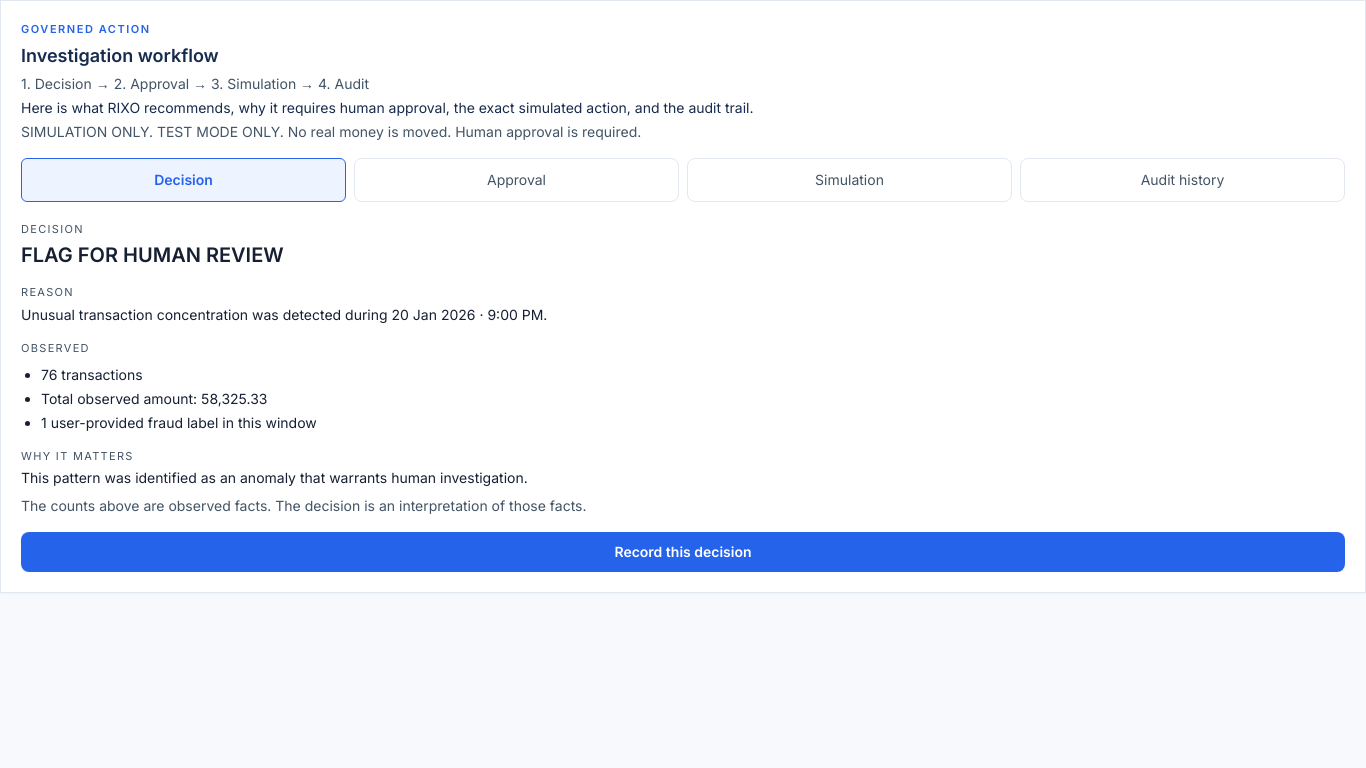
Test case: four tabs show materially different content from live state
Expected: the text "Decision" is shown, [21,222,84,236]
Expected: the text "Flag for human review" is shown, [21,243,284,267]
Click the tab "Approval".
click(516, 180)  # box [354,158,679,202]
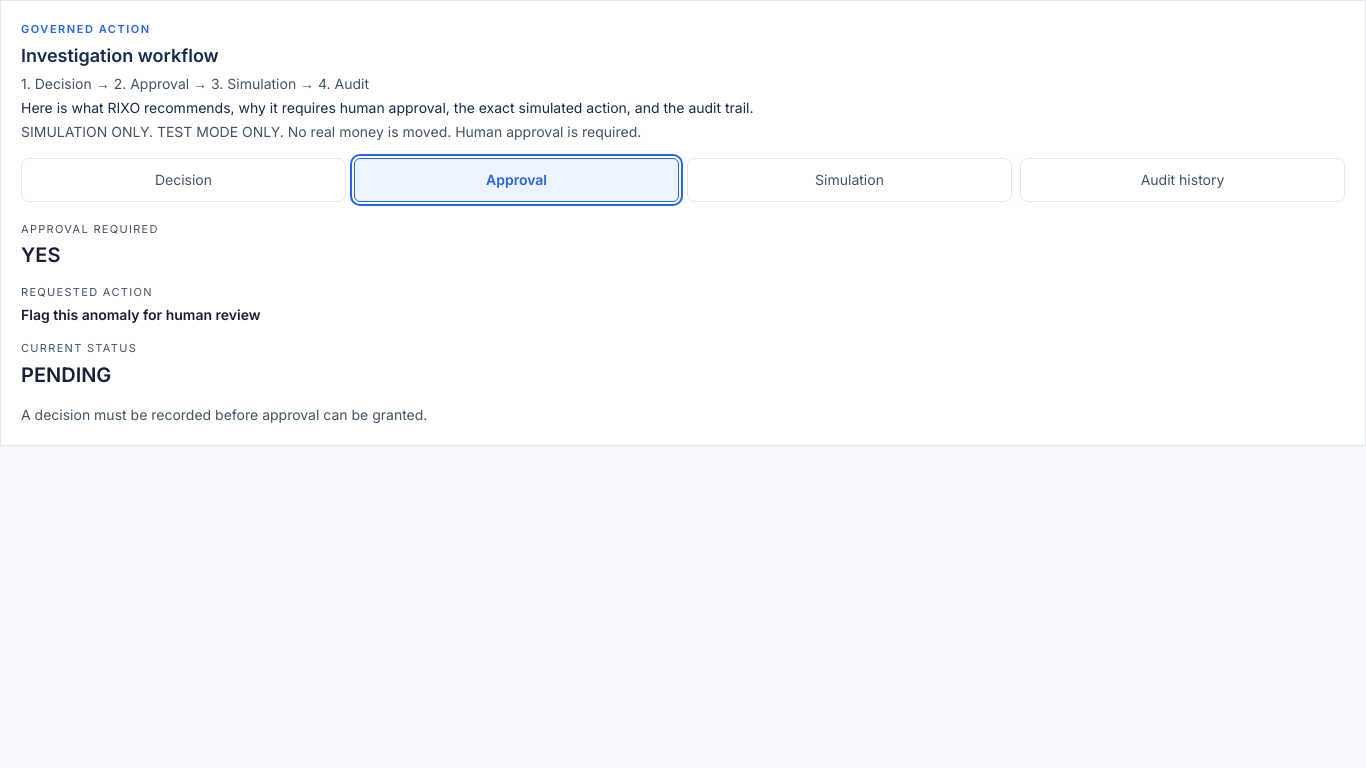
Expected: the text "Approval required" is shown, [21,222,159,236]
Expected: the text "YES" is shown, [21,243,60,267]
Expected: the text "Flag this anomaly for human review" is shown, [21,306,260,323]
Click the tab "Simulation".
click(850, 180)  # box [687,158,1012,202]
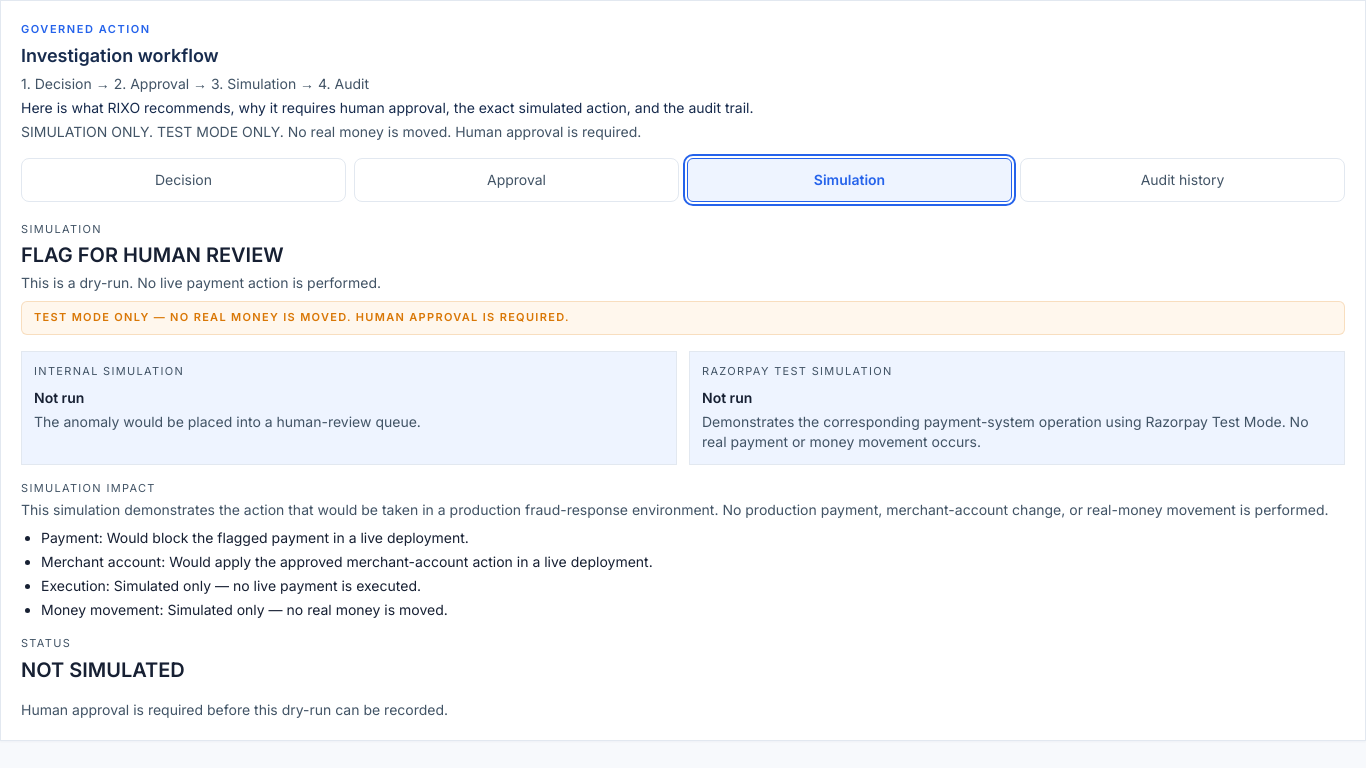
Expected: the text "Simulation" is shown, [21,222,102,236]
Expected: the text "The anomaly would be placed into a human-review queue." is shown, [34,413,421,430]
Expected: the text "Simulation impact" is shown, [21,481,156,495]
Click the tab "Audit history".
click(1182, 180)  # box [1020,158,1345,202]
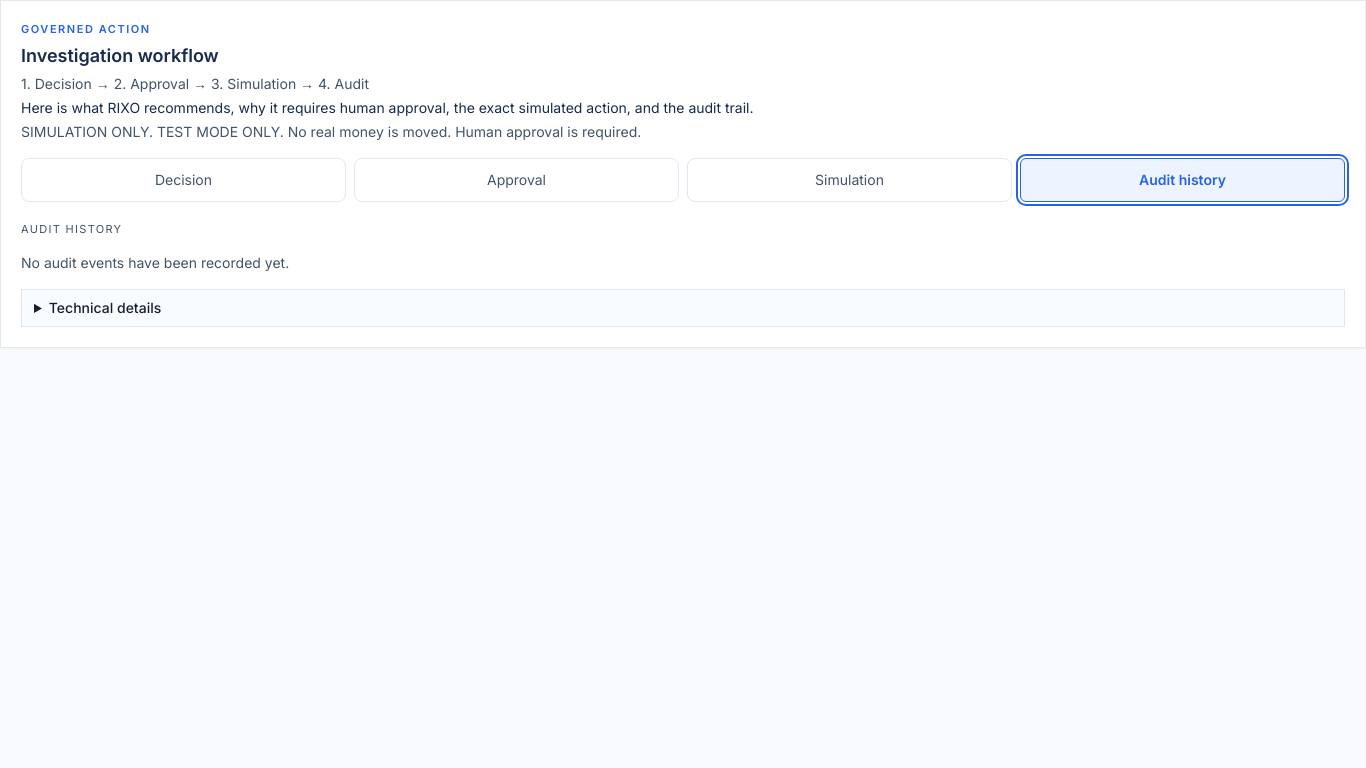
Expected: the text "PENDING" is not shown
Expected: the text "No audit events have been recorded yet." is shown, [21,254,289,271]
Expected: the text "human-review queue" is gone
